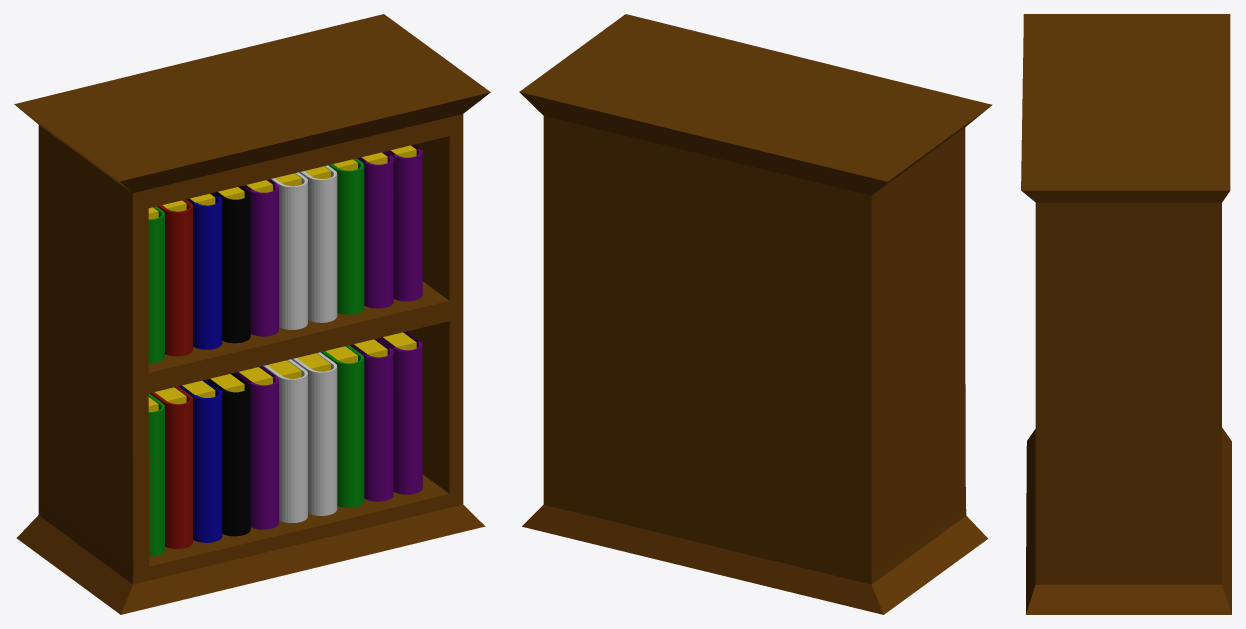
File: RealBookshelf.fbx
3 renders of one model, left to right at view 1: azimuth 30°, elevation 25°; view 2: azimuth 150°, elevation 25°; view 3: azimuth 270°, elevation 25°, orthographic. The views are drawn at different scales.
Parts seen in each view (by area): view 1: Bookshelf, Circle.003, Circle.020, Circle.011, Circle.007, Circle.009, Circle.013, Circle.016, Circle.012, Circle.005, Circle.006, Circle.004 (+9 smaller); view 2: Bookshelf; view 3: Bookshelf.
Boxes of the visible parts, x1=… form: Bookshelf: x1=14, y1=14, x2=490, y2=614; Circle.003: x1=193, y1=389, x2=222, y2=542; Circle.020: x1=193, y1=196, x2=222, y2=349; Circle.011: x1=393, y1=341, x2=422, y2=494; Circle.007: x1=307, y1=363, x2=337, y2=515; Circle.009: x1=364, y1=348, x2=393, y2=501; Circle.013: x1=364, y1=156, x2=393, y2=308; Circle.016: x1=307, y1=170, x2=337, y2=322; Circle.012: x1=393, y1=149, x2=422, y2=301; Circle.005: x1=249, y1=376, x2=278, y2=529; Circle.006: x1=278, y1=370, x2=307, y2=522; Circle.004: x1=221, y1=383, x2=250, y2=536; Bookshelf: x1=519, y1=14, x2=992, y2=614; Bookshelf: x1=1021, y1=14, x2=1231, y2=614.
Bounding box in the file's own units: 224 × 252 × 113.
